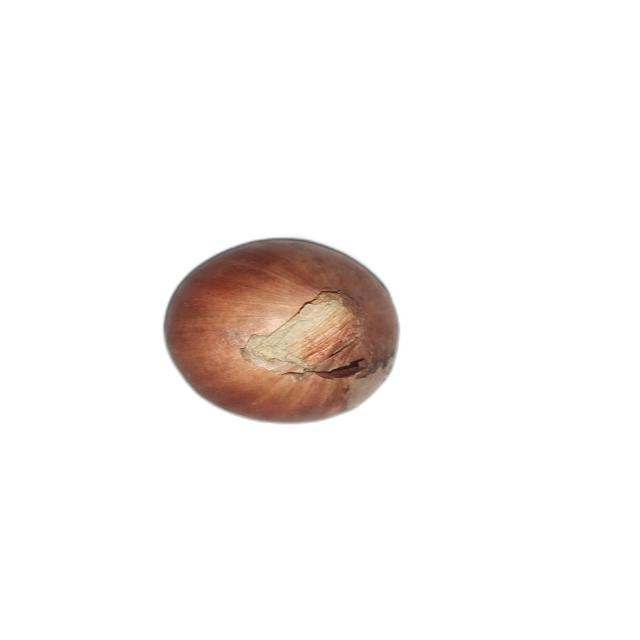onion: (163, 237, 401, 425)
